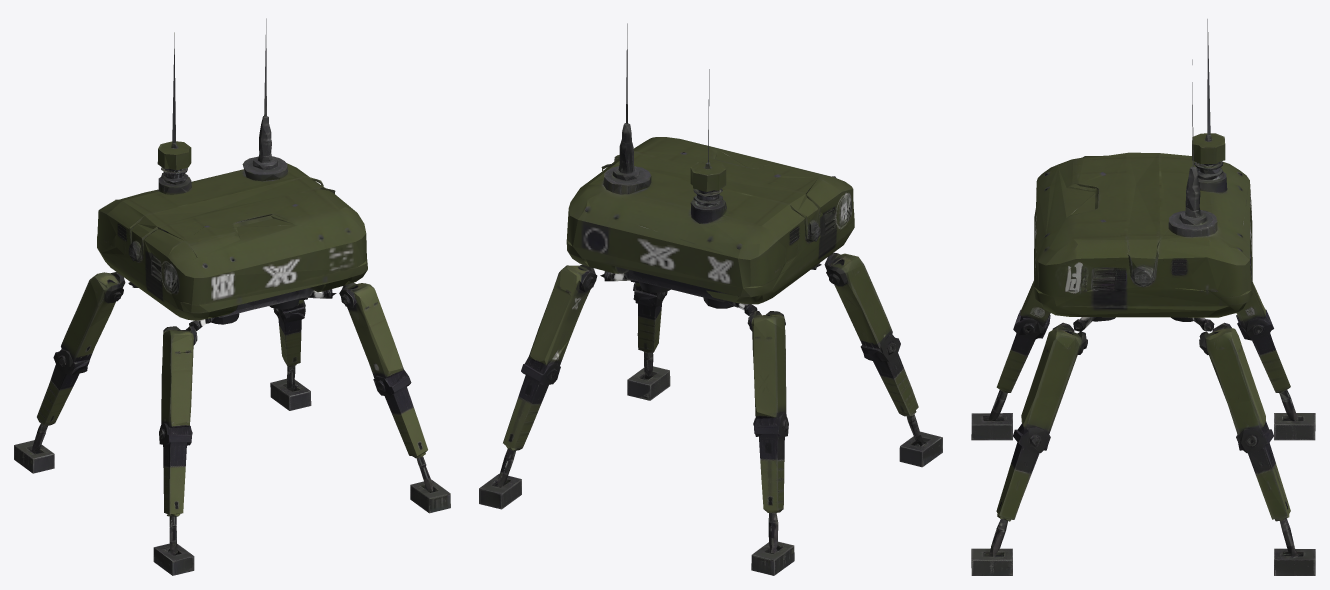
The picture shows the model from 3 angles, left to right: view 1: azimuth 30°, elevation 25°; view 2: azimuth 150°, elevation 25°; view 3: azimuth 270°, elevation 25°; orthographic projection. The views are drawn at different scales.
Parts seen in each view (by area): view 1: output_unwrapped; view 2: output_unwrapped; view 3: output_unwrapped.
Boxes of the visible parts, box(x1,y1,x2,y2) form: output_unwrapped: box(14, 18, 450, 575); output_unwrapped: box(479, 23, 942, 575); output_unwrapped: box(971, 19, 1315, 575).
Size of the model in its own units: 1.26 by 1.9 by 1.24.
1 material, 1 textured.
